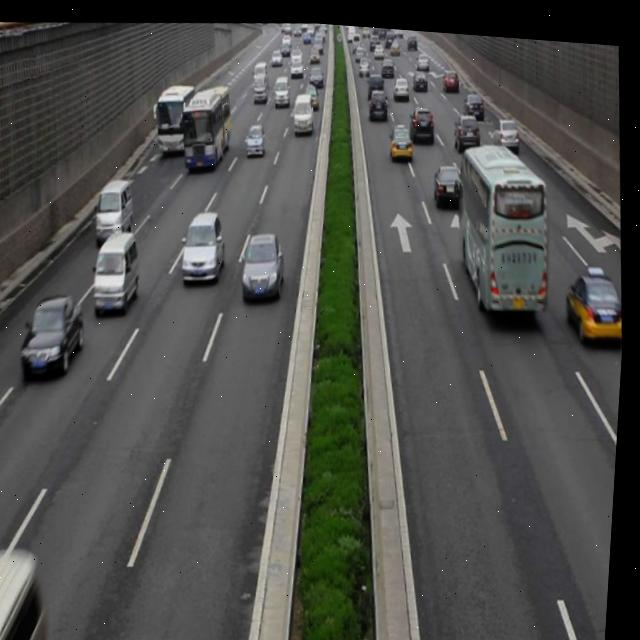car: (20, 292, 92, 378), (565, 251, 629, 339), (179, 205, 230, 284), (241, 226, 289, 299), (431, 156, 465, 200)
truck: (0, 544, 59, 640), (92, 226, 146, 316), (95, 176, 139, 248)
van: (451, 132, 558, 312), (179, 78, 235, 168)
